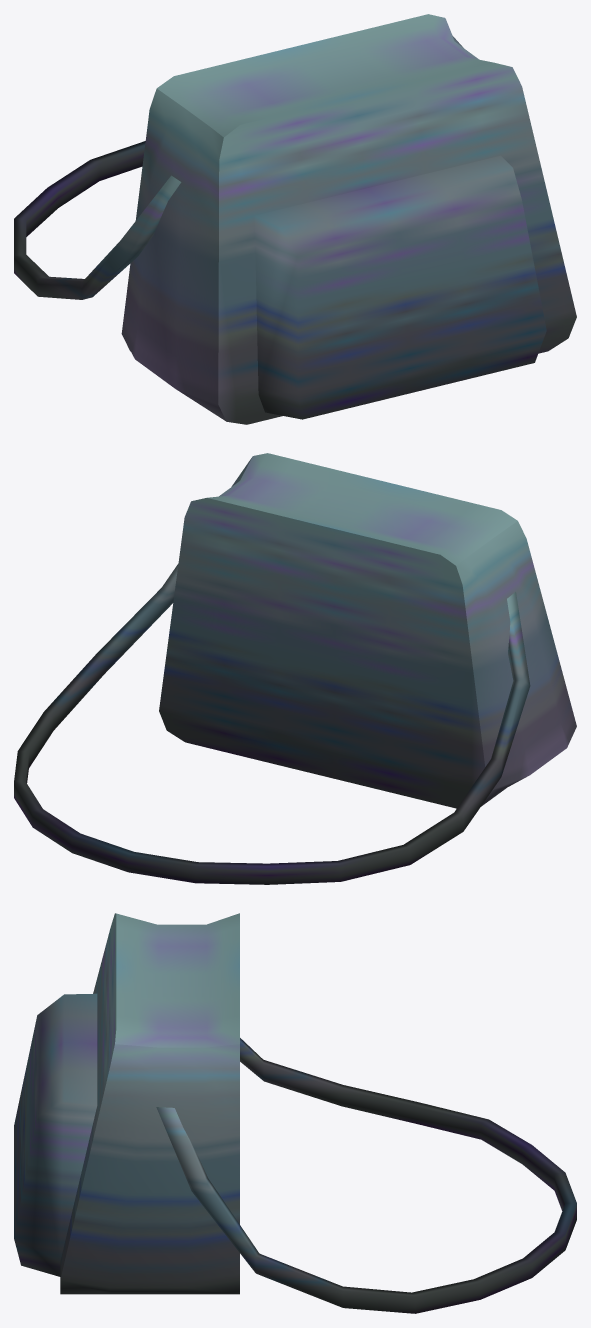
The model's file is 94d8a5be-53c2-4492-bfe9-a86c9ba7c59f.glb.
3 renders of one model, top to bottom at view 1: azimuth 30°, elevation 25°; view 2: azimuth 150°, elevation 25°; view 3: azimuth 270°, elevation 25°, orthographic. The views are drawn at different scales.
Visible parts, largest first — view 1: HandbagsAndPurses01; view 2: HandbagsAndPurses01; view 3: HandbagsAndPurses01.
Boxes of the visible parts, bbox=[...] form: HandbagsAndPurses01: bbox=[14, 14, 576, 424]; HandbagsAndPurses01: bbox=[14, 453, 576, 884]; HandbagsAndPurses01: bbox=[14, 913, 576, 1313].
Size of what is drawn, in the model's own units: 0.3771 by 0.2145 by 0.4325.
Materials: 1 (1 with a texture image).
